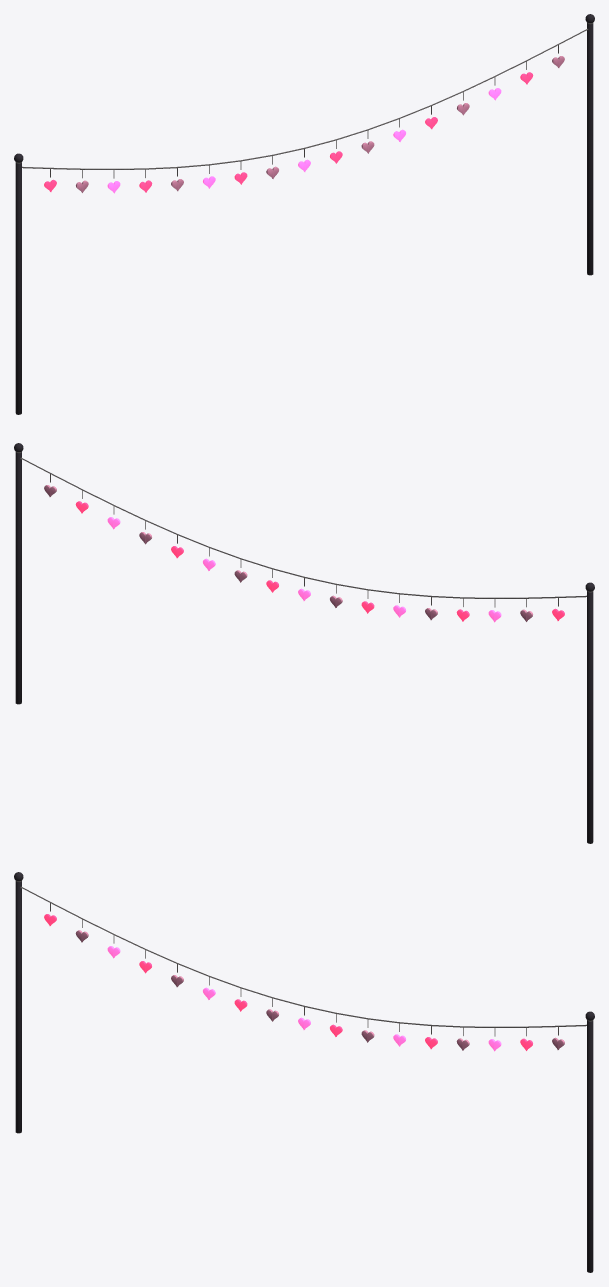
Rendered from rc_heart_garland.glb.
3 renders of one model, top to bottom at view 1: azimuth 30°, elevation 25°; view 2: azimuth 150°, elevation 25°; view 3: azimuth 330°, elevation 25°, orthographic.
Parts seen in each view (by area): view 1: rc_heart_garland; view 2: rc_heart_garland; view 3: rc_heart_garland.
Boxes of the visible parts, box(x1,y1,x2,y2) form: rc_heart_garland: box(14, 14, 594, 414); rc_heart_garland: box(14, 443, 594, 843); rc_heart_garland: box(14, 872, 594, 1272).
Size of the model in its own units: 16.74 by 7.17 by 0.24.
Materials: 4 (4 with a texture image).
